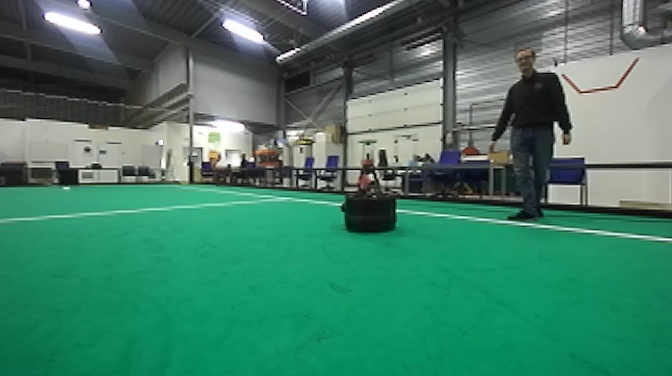human: (489, 41, 569, 229)
robot: (336, 137, 404, 237)
